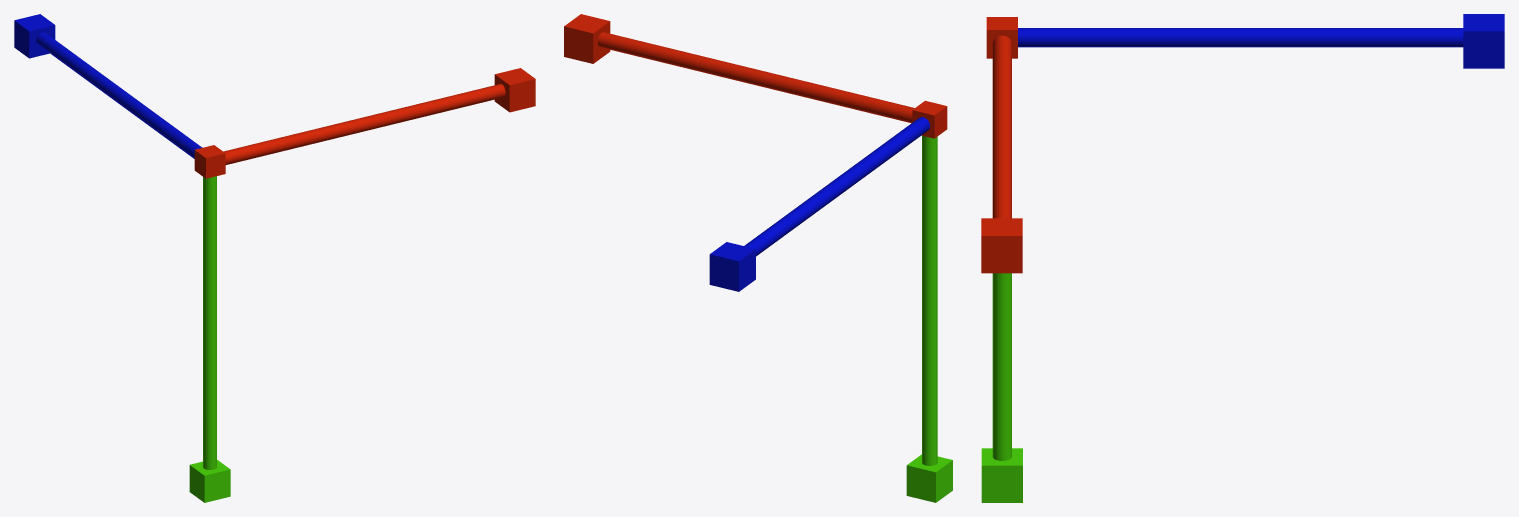
The model's file is scale_gizmo.fbx.
3 renders of one model, left to right at view 1: azimuth 30°, elevation 25°; view 2: azimuth 150°, elevation 25°; view 3: azimuth 270°, elevation 25°, orthographic. The views are drawn at different scales.
Visible parts, largest first — view 1: Cube; view 2: Cube; view 3: Cube.
Part boxes in pixels (x1,y1,x2,y2): Cube: (14,14,535,502); Cube: (564,14,952,502); Cube: (981,14,1504,502).
Size of the model in its own units: 99.33 by 98.44 by 98.96.
